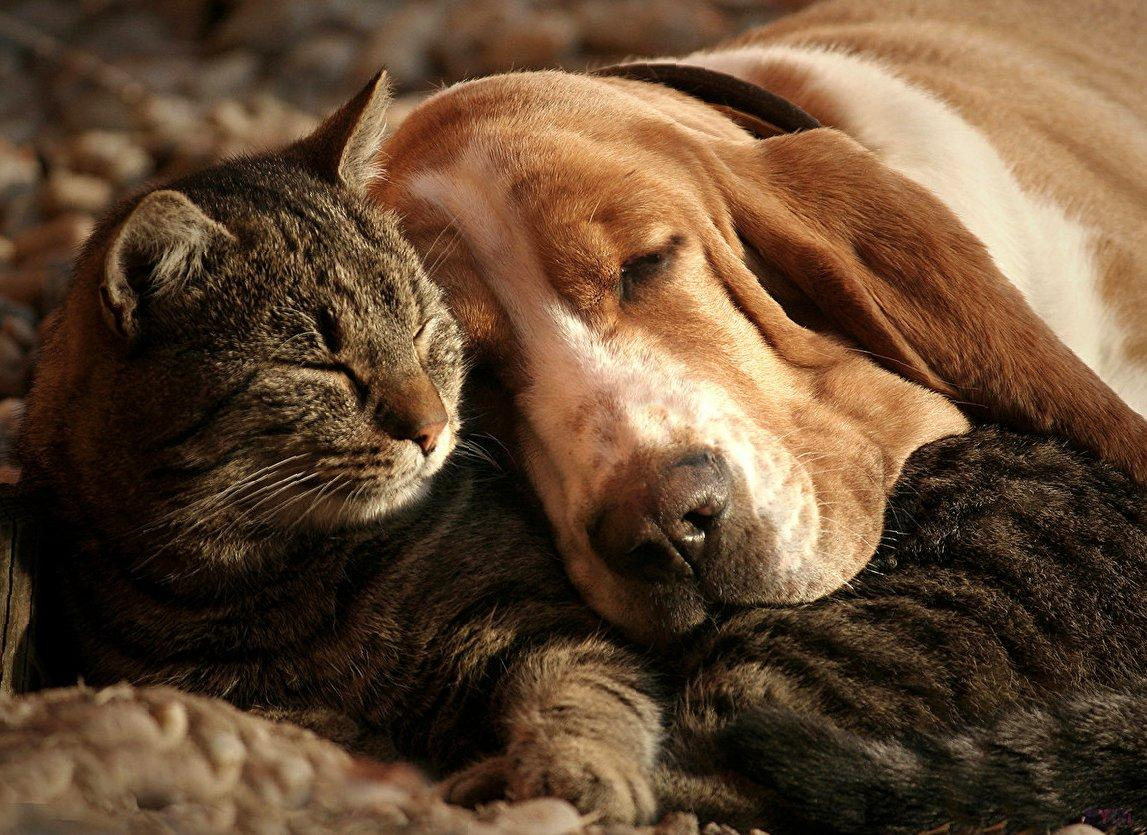animals: (378, 45, 1144, 628), (29, 75, 493, 675)
